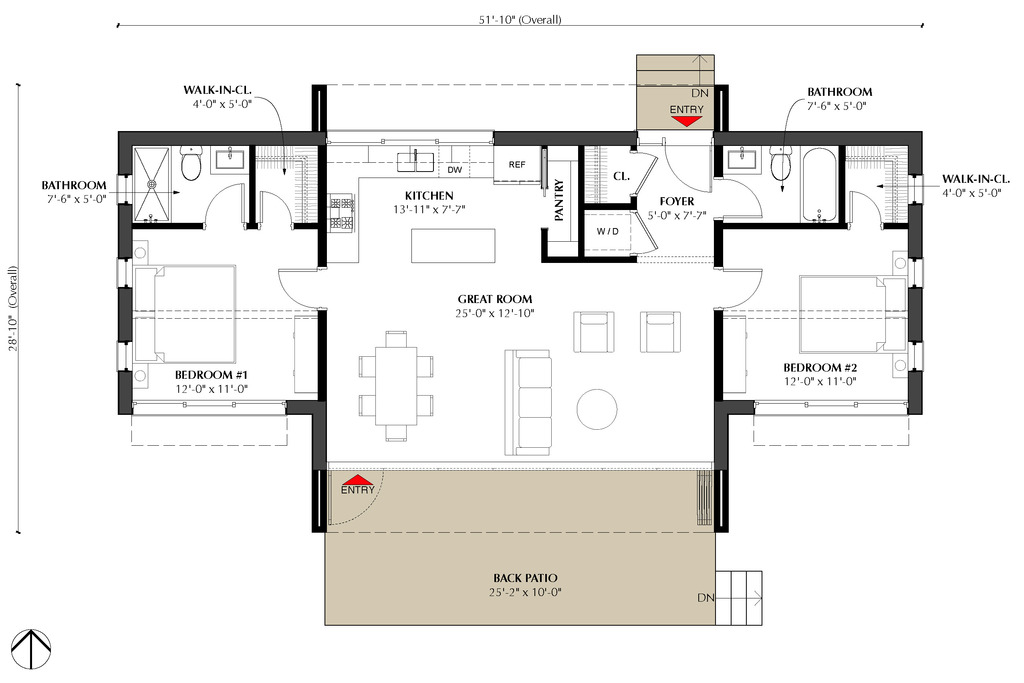bed: (133, 262, 238, 364), (793, 275, 905, 356)
dining_table: (358, 328, 436, 442)
door: (664, 140, 714, 191), (203, 180, 247, 232), (720, 262, 764, 313), (714, 176, 763, 221), (277, 265, 322, 310), (256, 191, 294, 233), (629, 149, 658, 196), (848, 189, 880, 228), (633, 212, 658, 255)
large_sink: (177, 144, 209, 189), (767, 144, 793, 185)
large_sofa: (499, 346, 557, 457)
small_sofa: (638, 307, 683, 357), (573, 310, 617, 357)
stairs: (635, 52, 713, 98), (712, 568, 764, 628)
tub: (799, 148, 843, 221)
twin_sink: (399, 152, 438, 173)
